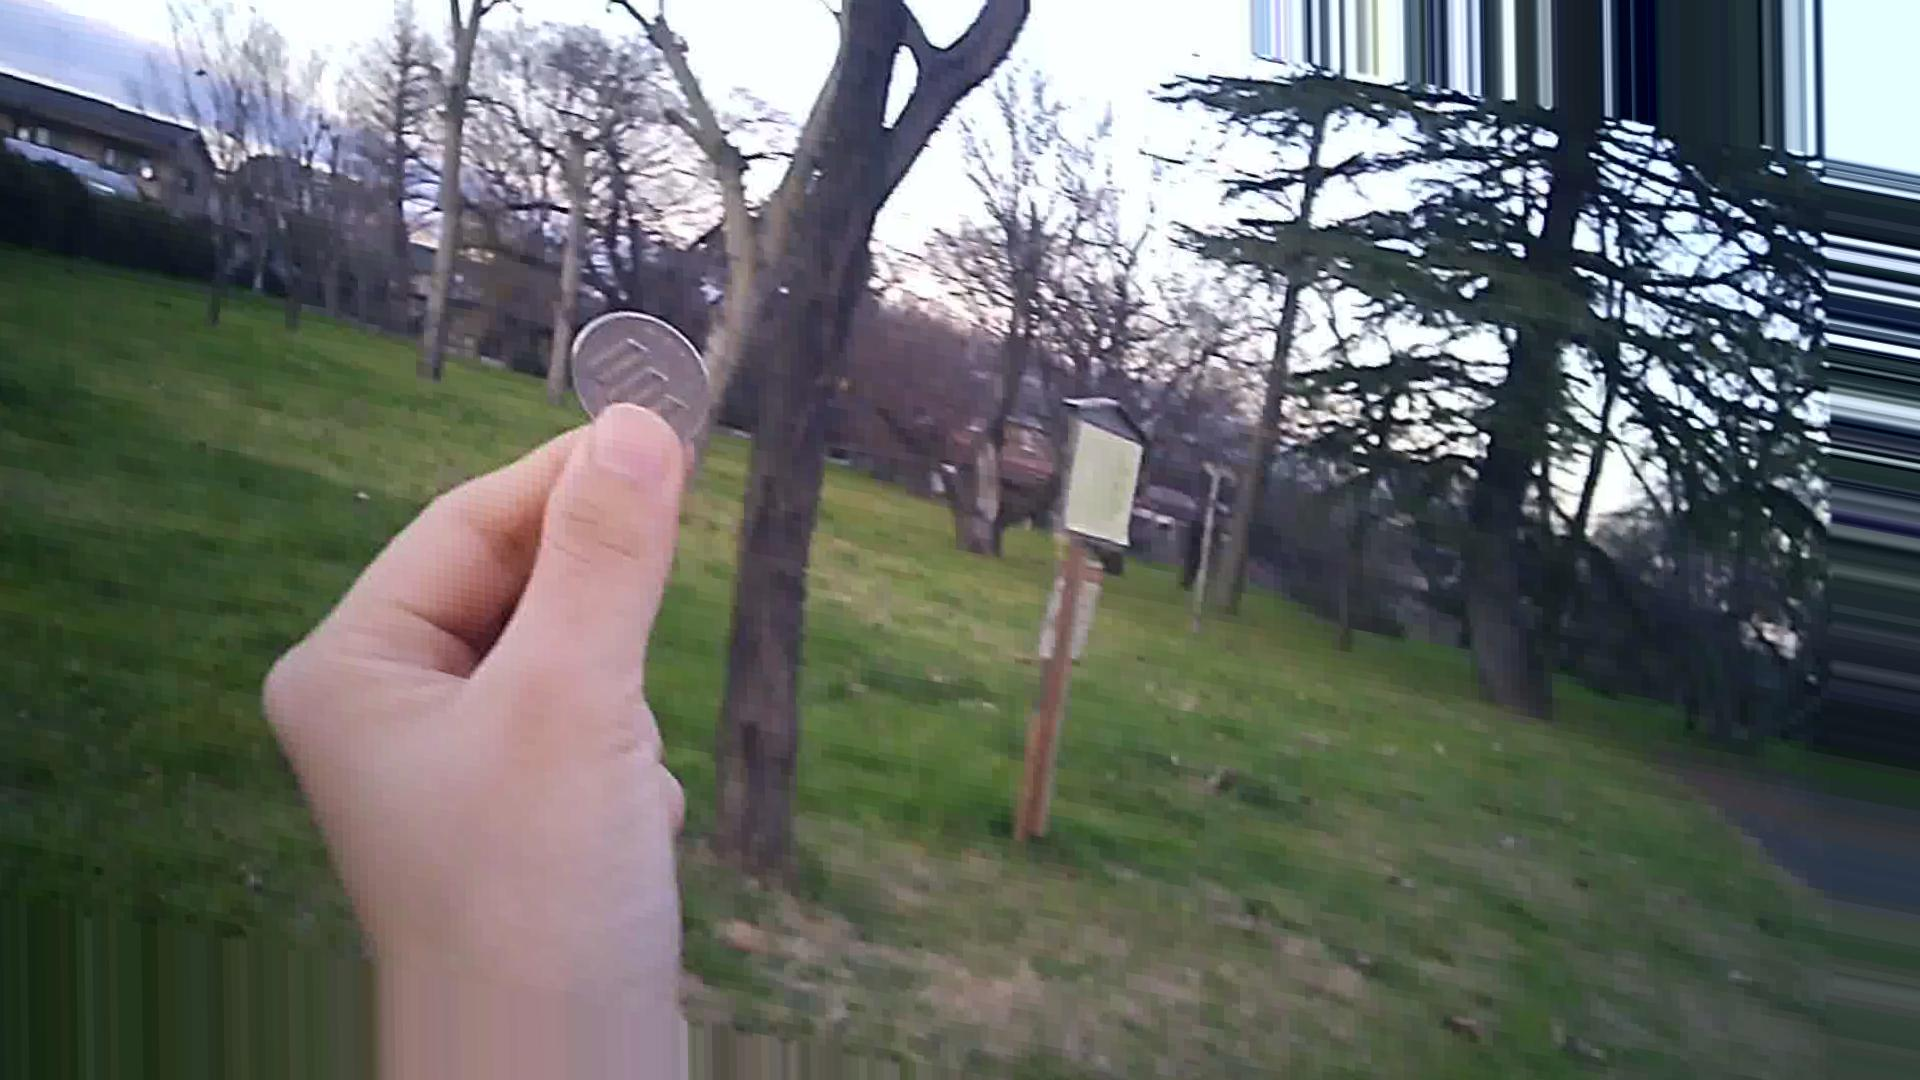100 Yen: (562, 307, 728, 438)
